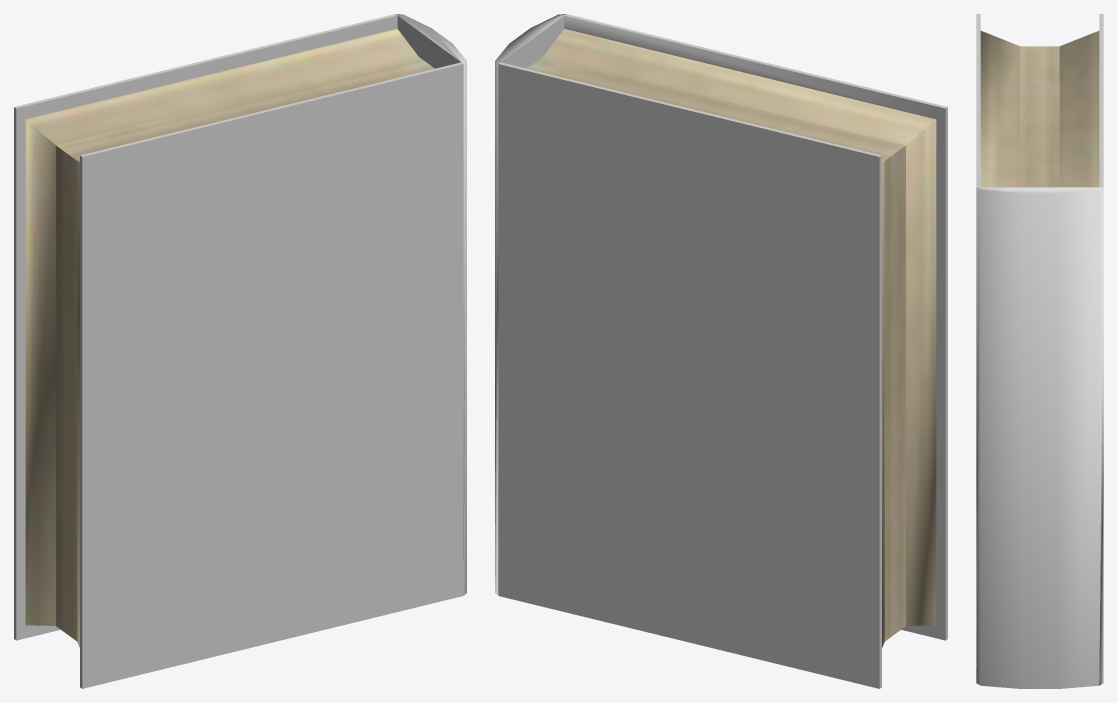
Rendered from lawbook.glb.
3 renders of one model, left to right at view 1: azimuth 30°, elevation 25°; view 2: azimuth 150°, elevation 25°; view 3: azimuth 270°, elevation 25°, orthographic. The views are drawn at different scales.
Visible parts, largest first — view 1: lawbook; view 2: lawbook; view 3: lawbook.
Part boxes in pixels (x1,y1,x2,y2): lawbook: (14, 14, 466, 688); lawbook: (495, 14, 947, 688); lawbook: (976, 14, 1103, 688).
Size of the model in its own units: 0.775 by 1 by 0.2326.
Materials: 2 (1 with a texture image).
